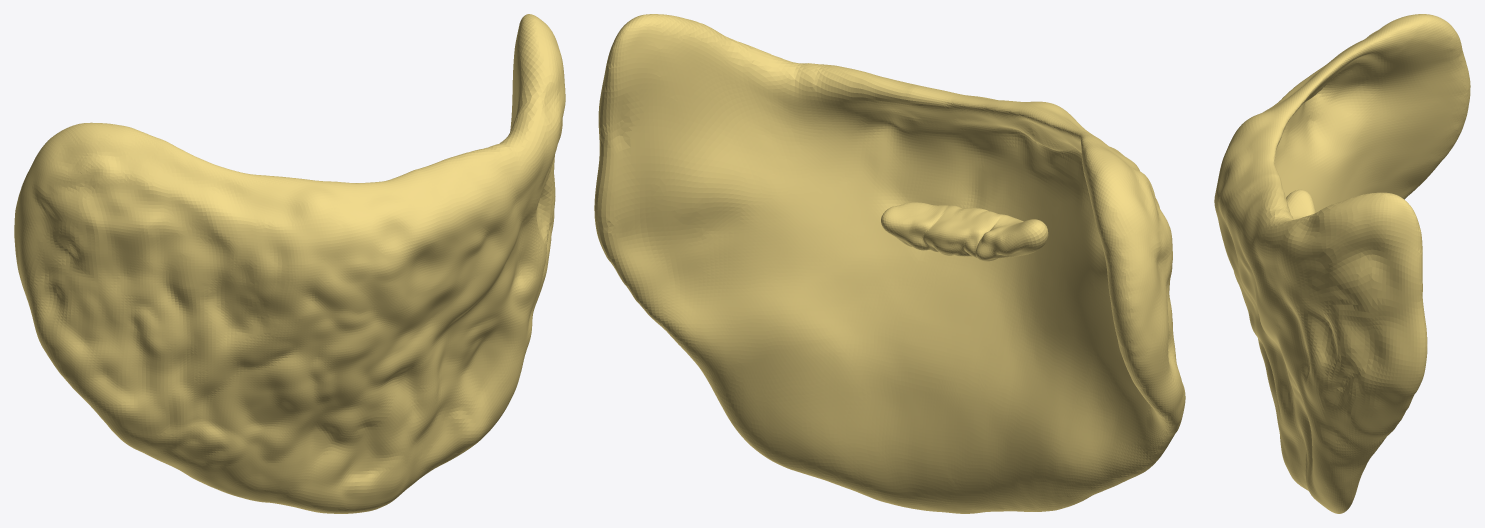
File: visceral-fat-partial.glb
3 renders of one model, left to right at view 1: azimuth 30°, elevation 25°; view 2: azimuth 150°, elevation 25°; view 3: azimuth 270°, elevation 25°, orthographic. The views are drawn at different scales.
Parts seen in each view (by area): view 1: visceral-fat-partial; view 2: visceral-fat-partial; view 3: visceral-fat-partial.
Boxes of the visible parts, x1,y1,x2,y2 form: visceral-fat-partial: [14, 14, 565, 513]; visceral-fat-partial: [594, 14, 1185, 513]; visceral-fat-partial: [1214, 14, 1470, 513].
Size of the model in its own units: 0.248 by 0.1909 by 0.1157.
